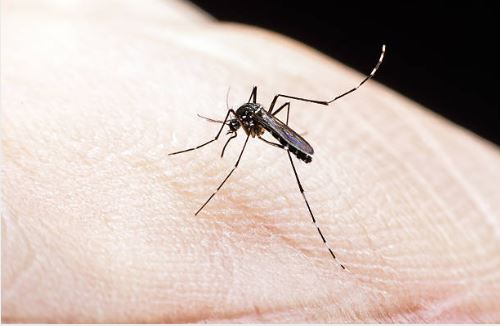dengue_mosquito: (167, 85, 354, 278)
